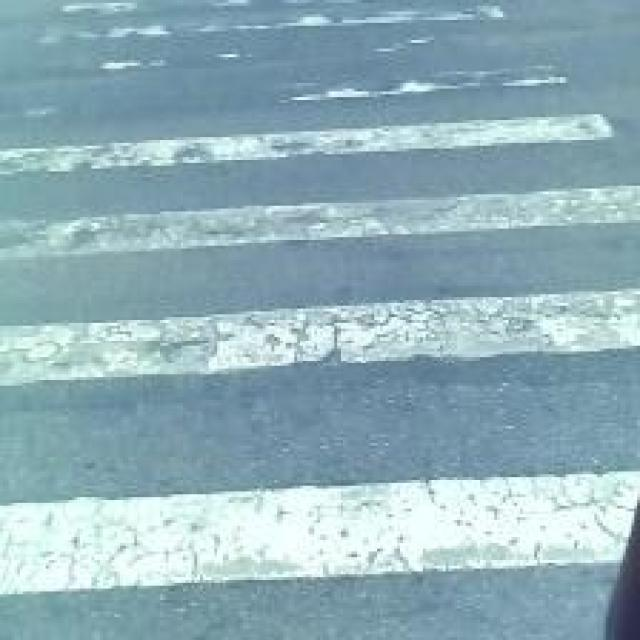zebra: (49, 22, 578, 584)
